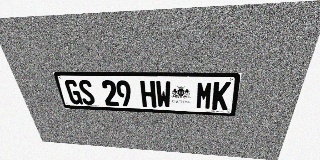2: (101, 80, 119, 106)
9: (115, 80, 133, 107)
G: (64, 79, 83, 105)
H: (140, 81, 156, 107)
K: (212, 82, 231, 110)
M: (196, 81, 214, 110)
S: (77, 80, 96, 105)
W: (155, 81, 171, 108)
